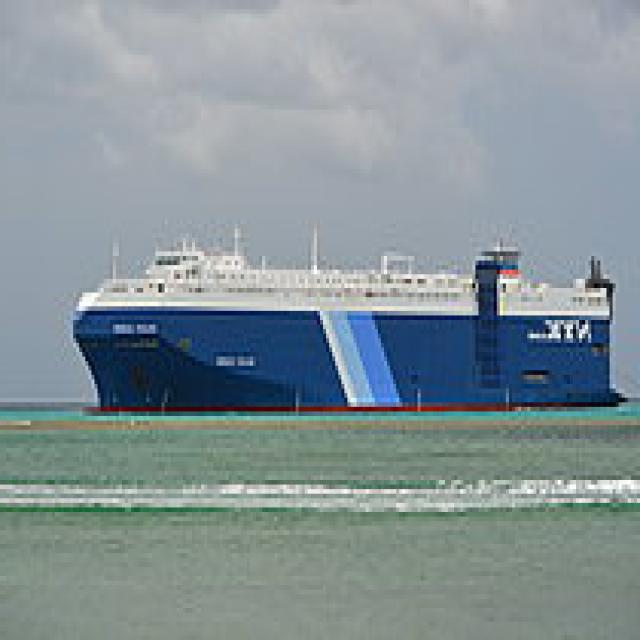Carrier: (73, 220, 619, 420)
